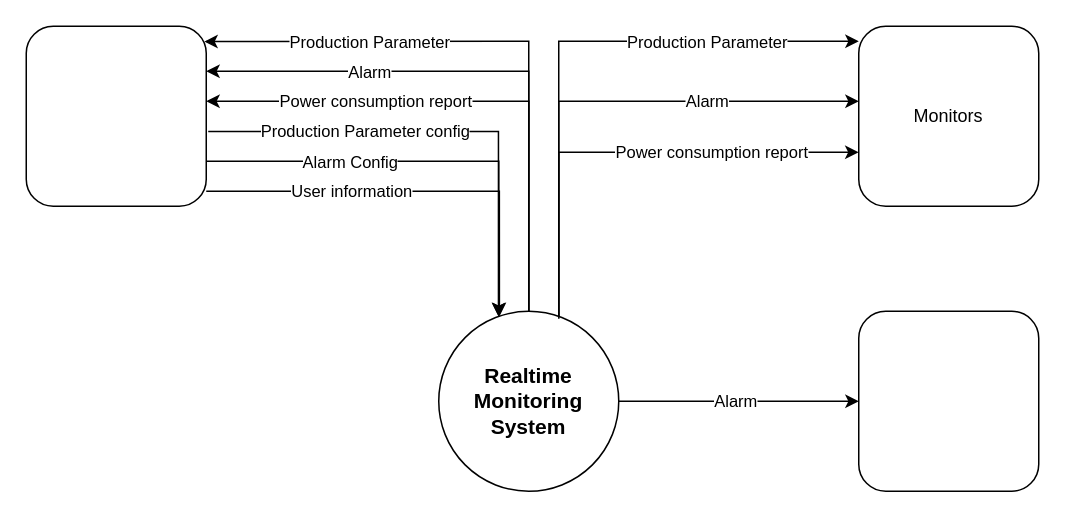
Image size: 1065x518. Some labels were removed from this diagram. Here are the shapes that lost their labels. From the top down, the box of each, then its label:
(25, 25, 206, 206): Administrators
(857, 310, 1039, 491): Non-user Employees
